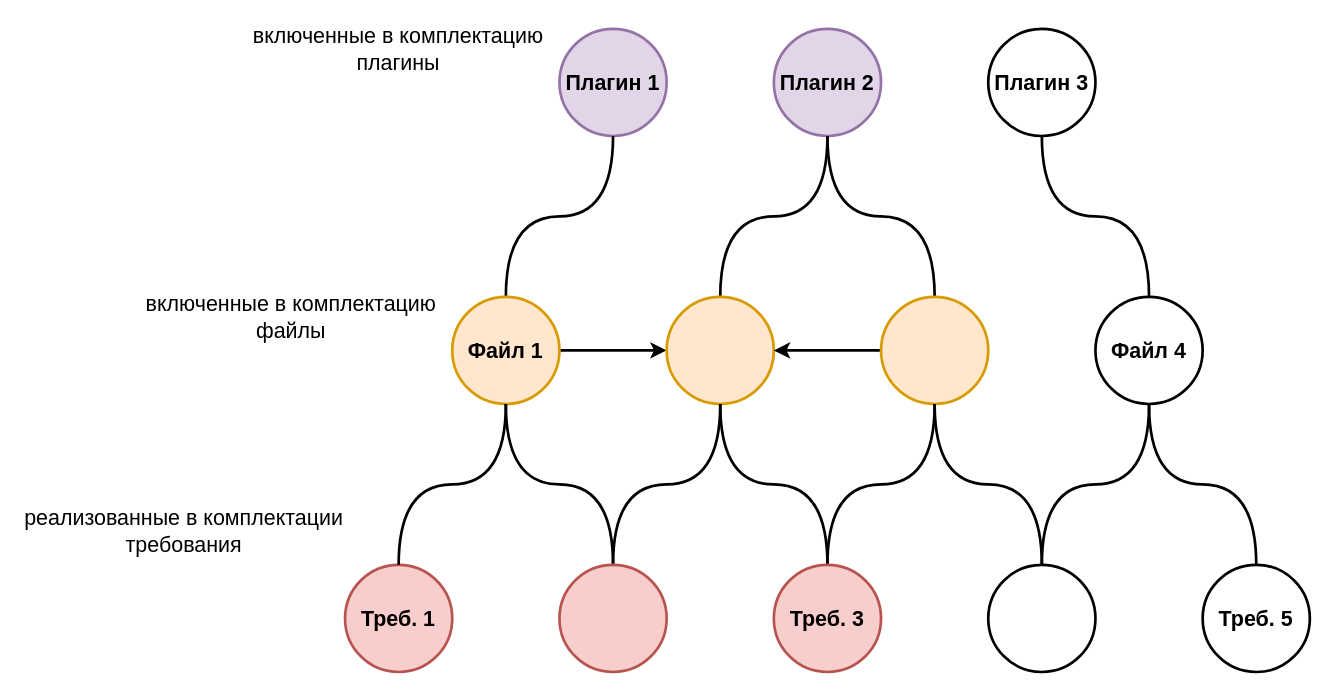
The diagram is 1333 pixels wide and 695 high, and some of its shapes have lost their labels. The shapes that lost their labels are listed below. From the top down, each one's box as (x1, y1, x2, y2) in pixels, then its label:
(665, 295, 775, 405): Файл 2
(879, 295, 989, 405): Файл 3
(557, 563, 667, 673): Треб. 2
(986, 563, 1096, 673): Треб. 4
